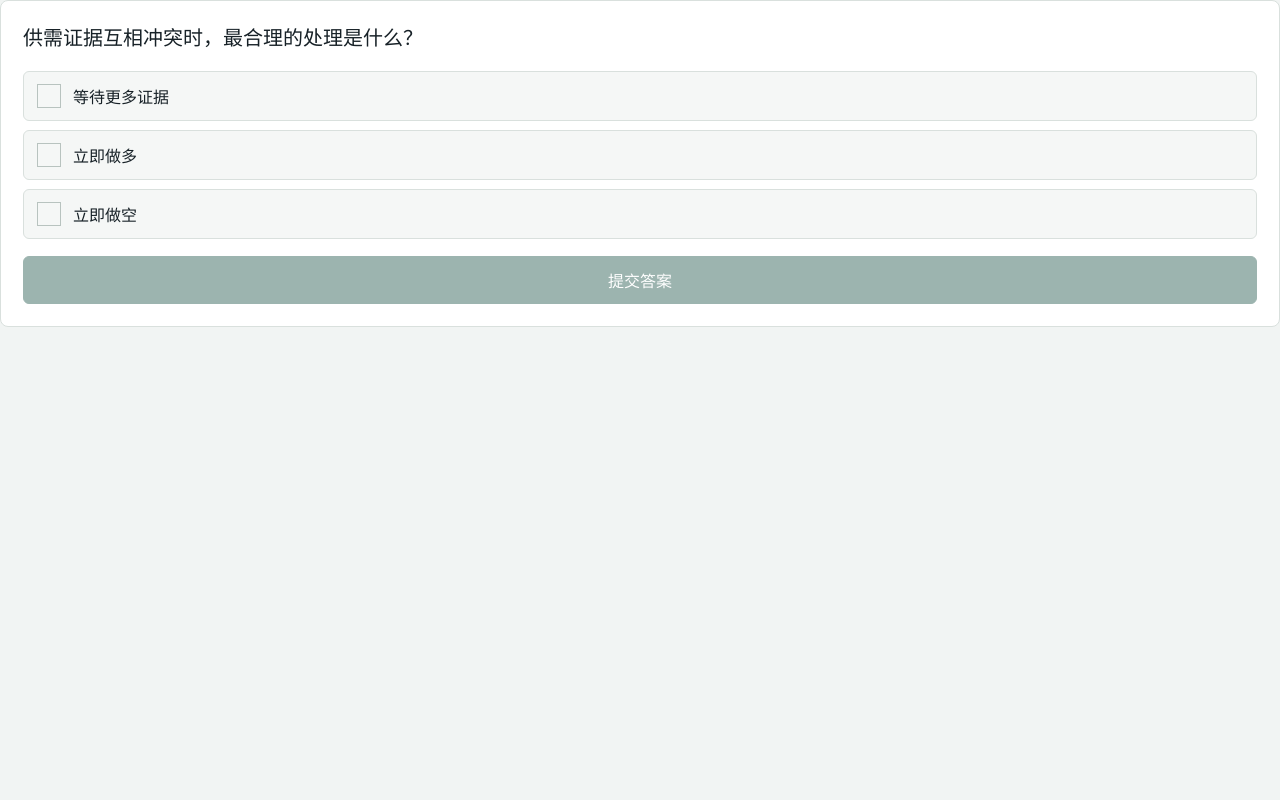
it: ChoiceQuestionCard › requires one selection and freezes the answer after submit
The width and height of the screenshot is (1280, 800).
Expected: the button "提交答案" is disabled, [23, 256, 1257, 304]
Click the radio button labelled "立即做多" at (105, 156), box [23, 130, 1257, 180]
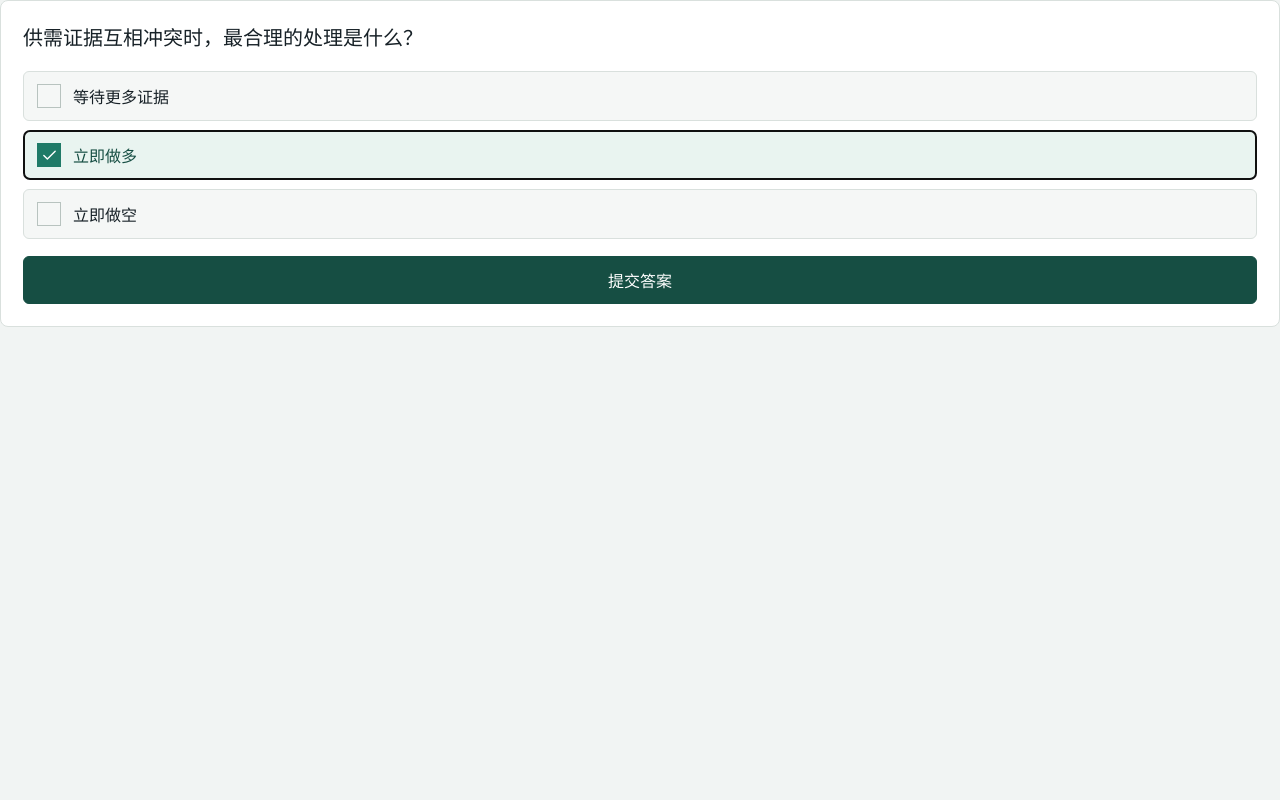
Now the button "提交答案" is enabled
Click the button "提交答案" at (640, 280), box [23, 256, 1257, 304]
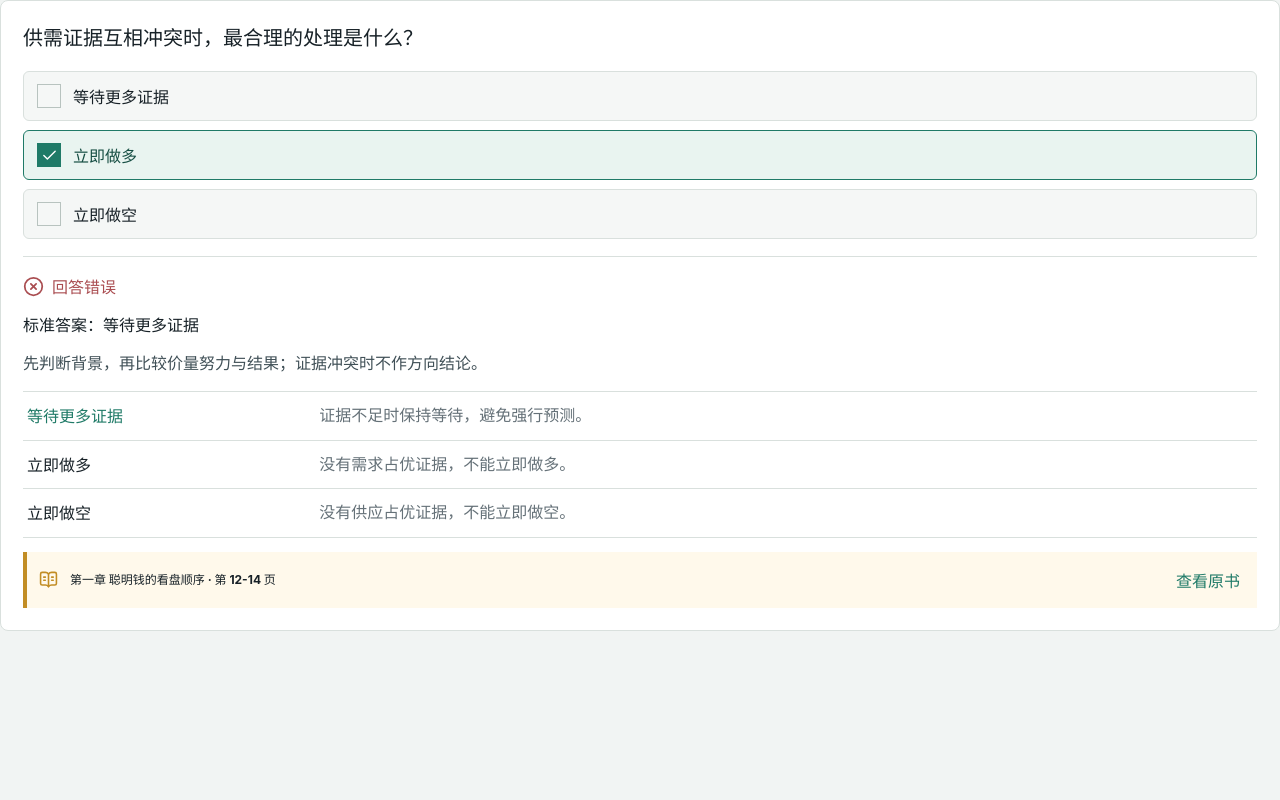
Now the text "回答错误" is shown, box [52, 274, 116, 298]
Now the text "标准答案：等待更多证据" is shown, box [23, 315, 199, 335]
Now the text "先判断背景，再比较价量努力与结果；证据冲突时不作方向结论。" is shown, box [23, 353, 487, 373]
